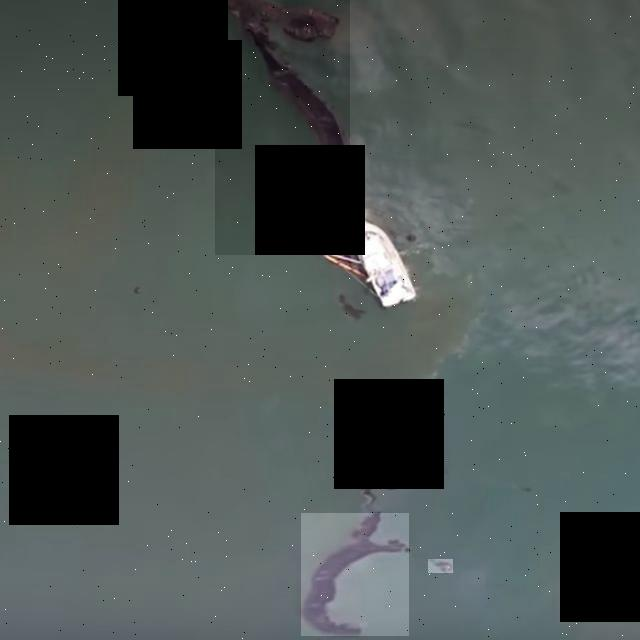oil spill: (215, 0, 350, 255), (301, 513, 409, 636), (353, 393, 436, 489), (428, 559, 453, 573)
